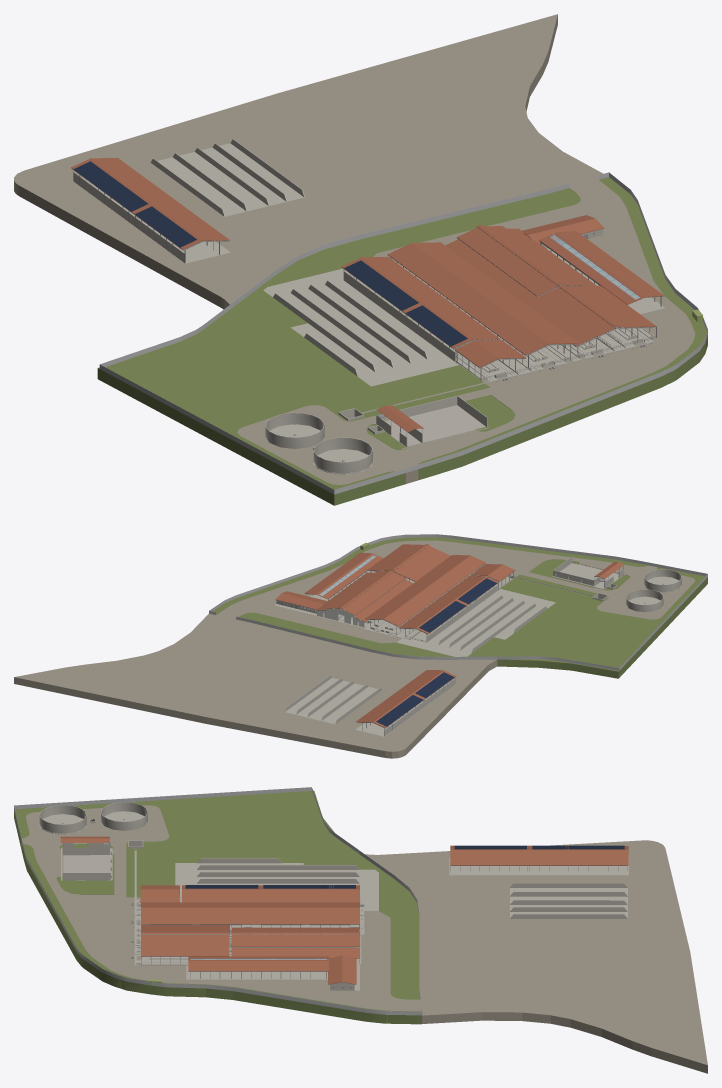
The model's file is stalla-progetto-3d.glb.
3 renders of one model, top to bottom at view 1: azimuth 30°, elevation 25°; view 2: azimuth 150°, elevation 25°; view 3: azimuth 270°, elevation 25°, orthographic. The views are drawn at different scales.
Visible parts, largest first — view 1: Terreno-strade, Terreno, ghiaia, tetto, ESISTENTE, esistente_muri, CONCIMAIA, rencinto, nuove_vasche, nuova_carpenteria, TOTALE, altro (+2 smaller); view 2: Terreno-strade, Terreno, ghiaia, tetto, ESISTENTE, esistente_muri, rencinto, CONCIMAIA, nuove_vasche, nuova_carpenteria, TOTALE, altro; view 3: Terreno-strade, Terreno, ghiaia, tetto, ESISTENTE, esistente_muri, CONCIMAIA, nuove_vasche, rencinto, altro, TOTALE, nuova_carpenteria (+2 smaller).
Boxes of the visible parts, x1=… form: Terreno-strade: x1=14, y1=14, x2=603, y2=309; Terreno: x1=97, y1=177, x2=707, y2=505; ghiaia: x1=237, y1=179, x2=695, y2=484; tetto: x1=71, y1=157, x2=664, y2=367; ESISTENTE: x1=341, y1=215, x2=604, y2=361; esistente_muri: x1=263, y1=229, x2=603, y2=386; CONCIMAIA: x1=265, y1=340, x2=662, y2=474; rencinto: x1=99, y1=172, x2=707, y2=494; nuove_vasche: x1=150, y1=139, x2=304, y2=216; nuova_carpenteria: x1=73, y1=161, x2=662, y2=380; TOTALE: x1=354, y1=263, x2=653, y2=381; altro: x1=72, y1=178, x2=665, y2=314; Terreno-strade: x1=14, y1=613, x2=497, y2=758; Terreno: x1=213, y1=537, x2=707, y2=678; ghiaia: x1=216, y1=540, x2=694, y2=643; tetto: x1=304, y1=544, x2=515, y2=727; ESISTENTE: x1=274, y1=570, x2=498, y2=636; esistente_muri: x1=397, y1=585, x2=555, y2=656; rencinto: x1=209, y1=534, x2=707, y2=670; CONCIMAIA: x1=510, y1=556, x2=682, y2=612; nuove_vasche: x1=284, y1=675, x2=382, y2=724; nuova_carpenteria: x1=306, y1=555, x2=513, y2=736; TOTALE: x1=323, y1=568, x2=512, y2=641; altro: x1=310, y1=560, x2=455, y2=736; Terreno-strade: x1=365, y1=840, x2=707, y2=1073; Terreno: x1=14, y1=790, x2=421, y2=1024; ghiaia: x1=21, y1=805, x2=422, y2=1011; tetto: x1=140, y1=845, x2=628, y2=971; ESISTENTE: x1=182, y1=885, x2=361, y2=990; esistente_muri: x1=175, y1=858, x2=378, y2=990; CONCIMAIA: x1=39, y1=802, x2=147, y2=965; nuove_vasche: x1=510, y1=883, x2=627, y2=918; rencinto: x1=14, y1=787, x2=422, y2=1015; altro: x1=186, y1=857, x2=628, y2=979; TOTALE: x1=135, y1=899, x2=364, y2=963; nuova_carpenteria: x1=141, y1=845, x2=627, y2=978.
Bounding box in the file's own units: 330 × 25.14 × 353.
